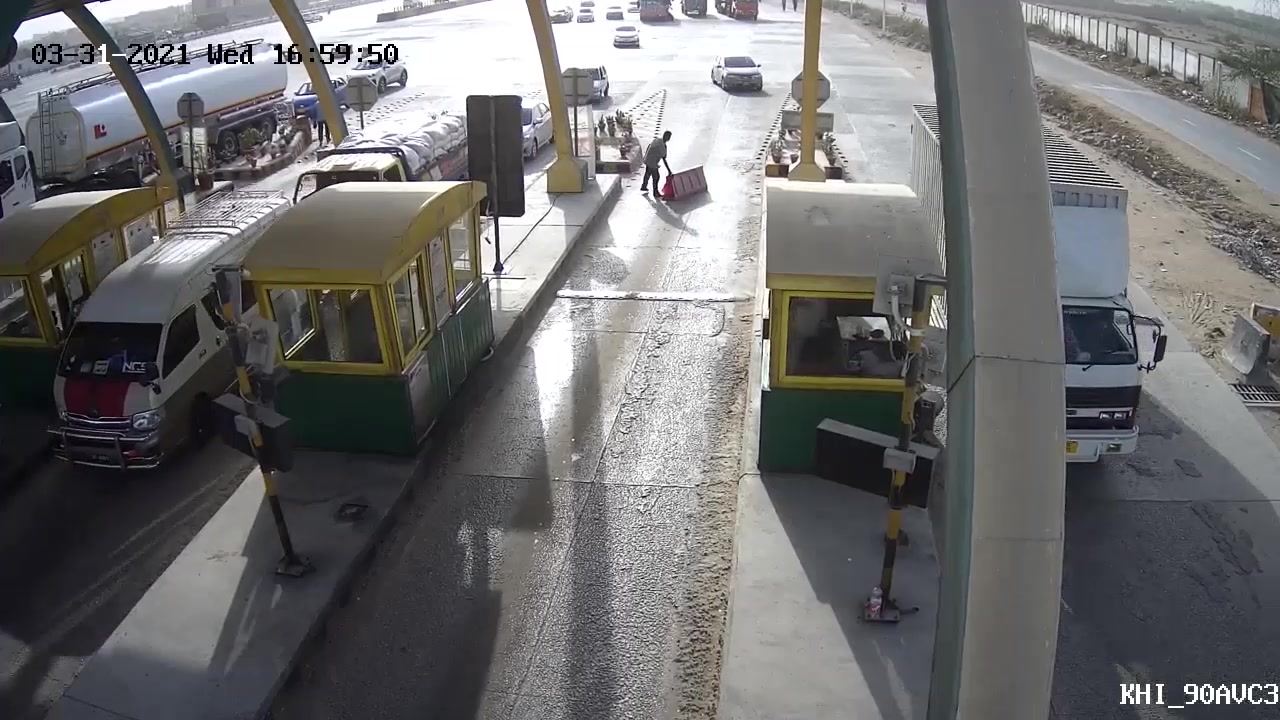F1: (707, 49, 765, 99)
